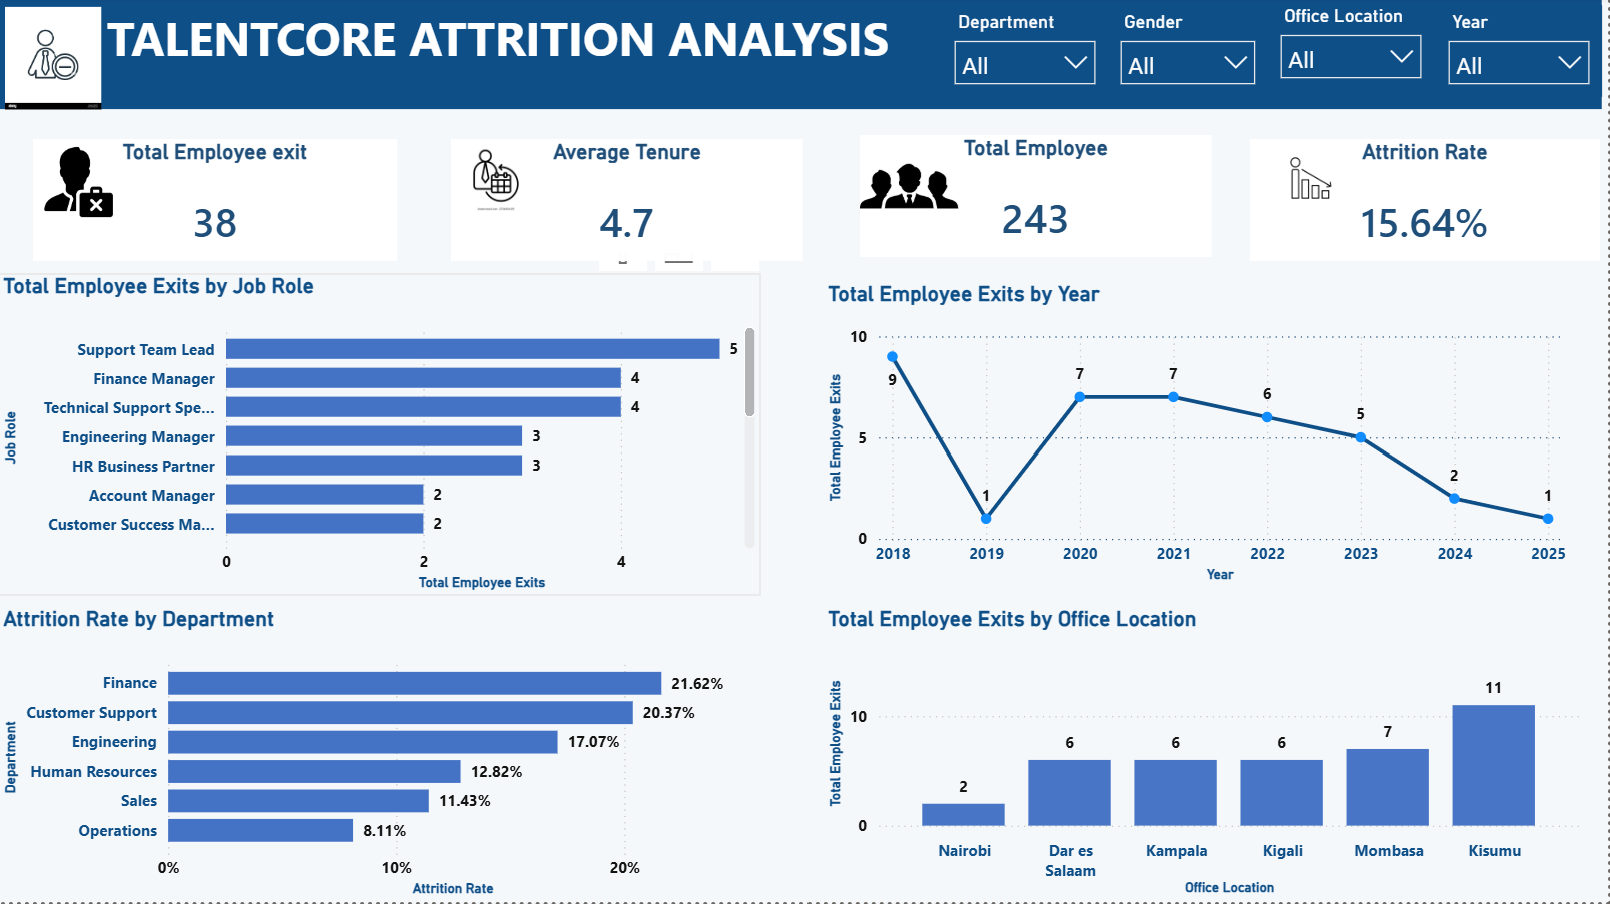

This screenshot's page, from the dashboard's own definition file:
{"tool":"powerbi","page":{"name":"Attrition  Analysis","canvas":[1280,720],"ordinal":2},"visuals":[{"type":"group","id":"g1","title":"Group 7","box":[0.4,2.6,1274.7,90.2],"z":0,"group":"g8"},{"type":"clusteredBarChart","fields":{"Category":["Employee Data.Department"],"Y":["Employee Data.Attrition Rate"]},"box":[0,484.8,607.2,235.2],"z":0},{"type":"slicer","fields":{"Values":["Employee Data.Department"]},"box":[750.2,7.9,131.9,73.1],"z":1000,"group":"g8"},{"type":"cardVisual","title":"Average Tenure","fields":{"Data":["Employee Data.Average Tenure"]},"box":[360.8,114.4,279.7,97],"z":1000,"group":"g5"},{"type":"columnChart","fields":{"Category":["Employee Data.Office Location"],"Y":["Employee Data.Total Employee Exits"]},"box":[654.8,484.8,607.3,234.5],"z":1000},{"type":"slicer","fields":{"Values":["Employee Data.Gender"]},"box":[882.2,7.9,127.2,73.1],"z":2000,"group":"g8"},{"type":"cardVisual","title":"Attrition Rate","fields":{"Data":["Employee Data.Attrition Rate"]},"box":[995,114.4,278.1,97],"z":2000,"group":"g2"},{"type":"lineChart","fields":{"Y":["Employee Data.Total Employee Exits"],"Category":["Date Table.Year"]},"box":[654.8,227.3,596,243.2],"z":2000},{"type":"slicer","fields":{"Values":["Date Table.Year"]},"box":[1142.8,7.9,131.9,73.1],"z":3000,"group":"g8"},{"type":"barChart","fields":{"Y":["Employee Data.Total Employee Exits"],"Category":["Employee Data.Job Role"]},"box":[0,220.9,607.2,255.9],"z":3000},{"type":"slicer","fields":{"Values":["Employee Data.Office Location"]},"box":[1009.3,3.2,131.9,73.1],"z":4000,"group":"g8"},{"type":"group","id":"g2","title":"Group 2","box":[995,114.4,278.1,97],"z":4000},{"type":"group","id":"g3","title":"Group 3","box":[685,111.3,279.7,97],"z":5000},{"type":"group","id":"g4","title":"Group 1","box":[0.4,2.6,1274.7,87.7],"z":6000,"group":"g7"},{"type":"group","id":"g5","title":"Group 4","box":[360.8,114.4,279.7,97],"z":6000},{"type":"group","id":"g6","title":"Group 5","box":[28.6,114.4,289.3,97],"z":7000},{"type":"group","id":"g7","title":"Group 6","box":[0.4,2.6,1274.7,90.2],"z":8000,"group":"g1"},{"type":"cardVisual","title":"Total Employee","fields":{"Data":["Employee Data.Total Employees"]},"box":[685,111.3,279.7,97],"z":8000,"group":"g3"},{"type":"cardVisual","title":"Total Employee exit","fields":{"Data":["Employee Data.In-Active Employees"]},"box":[28.6,114.4,289.3,97],"z":9001,"group":"g6"},{"type":"image","box":[1009.3,114.4,68.3,62],"z":9002,"group":"g2"},{"type":"image","box":[360.8,119.2,71.5,52.5],"z":9004,"group":"g5"},{"type":"image","box":[685,127.2,77.9,49.3],"z":9005,"group":"g3"},{"type":"image","box":[28.6,116,66.8,60.4],"z":9008,"group":"g6"},{"type":"image","box":[7.3,8.1,76.3,84.8],"z":9010,"group":"g7"},{"type":"textbox","box":[0.4,2.6,1274.7,87.7],"z":10000,"group":"g4"},{"type":"group","id":"g8","title":"Group 8","box":[0.4,2.6,1274.7,90.2],"z":10505}]}

Visuals, with their boxes in screenshot pixels (x1, y1, x2, y2), scaled from the page's 1280x720 canvas onto the 1610x904 screenshot:
"Group 7" group: BBox(1, 3, 1604, 117)
clusteredBarChart - Employee Data.Department x Employee Data.Attrition Rate: BBox(0, 609, 764, 903)
slicer - Employee Data.Department: BBox(944, 10, 1110, 102)
"Average Tenure" cardVisual: BBox(454, 144, 806, 265)
columnChart - Employee Data.Office Location x Employee Data.Total Employee Exits: BBox(824, 609, 1587, 903)
slicer - Employee Data.Gender: BBox(1110, 10, 1270, 102)
"Attrition Rate" cardVisual: BBox(1252, 144, 1601, 265)
lineChart - Employee Data.Total Employee Exits x Date Table.Year: BBox(824, 285, 1573, 591)
slicer - Date Table.Year: BBox(1437, 10, 1603, 102)
barChart - Employee Data.Total Employee Exits x Employee Data.Job Role: BBox(0, 277, 764, 599)
slicer - Employee Data.Office Location: BBox(1270, 4, 1435, 96)
"Group 2" group: BBox(1252, 144, 1601, 265)
"Group 3" group: BBox(862, 140, 1213, 262)
"Group 1" group: BBox(1, 3, 1604, 113)
"Group 4" group: BBox(454, 144, 806, 265)
"Group 5" group: BBox(36, 144, 400, 265)
"Group 6" group: BBox(1, 3, 1604, 117)
"Total Employee" cardVisual: BBox(862, 140, 1213, 262)
"Total Employee exit" cardVisual: BBox(36, 144, 400, 265)
image: BBox(1270, 144, 1355, 221)
image: BBox(454, 150, 544, 216)
image: BBox(862, 160, 960, 222)
image: BBox(36, 146, 120, 221)
image: BBox(9, 10, 105, 117)
textbox: BBox(1, 3, 1604, 113)
"Group 8" group: BBox(1, 3, 1604, 117)
